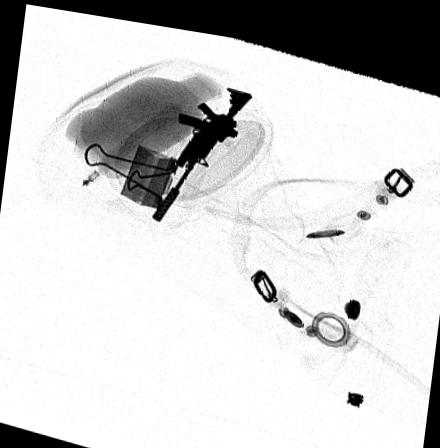Gun: (149, 76, 255, 219)
